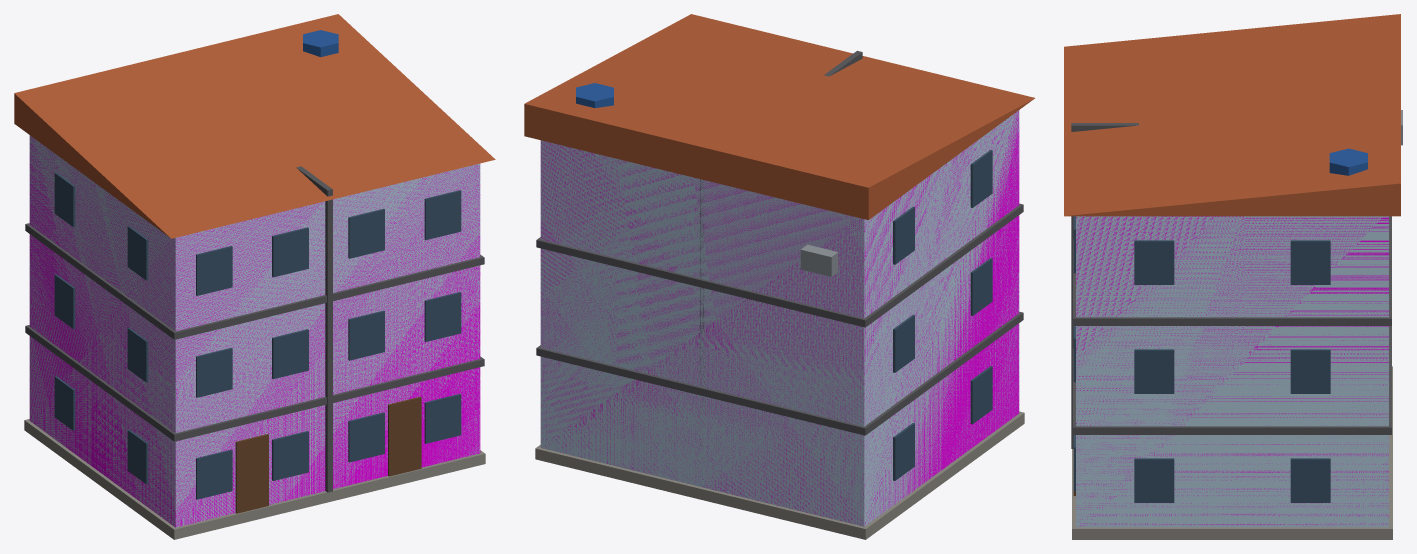
Rendered from Rowhouse_3S_01.glb.
The picture shows the model from 3 angles, left to right: view 1: azimuth 30°, elevation 25°; view 2: azimuth 150°, elevation 25°; view 3: azimuth 270°, elevation 25°; orthographic projection. The views are drawn at different scales.
Parts seen in each view (by area): view 1: Rowhouse_3S_01, Rowhouse_3S_01_COL; view 2: Rowhouse_3S_01, Rowhouse_3S_01_COL; view 3: Rowhouse_3S_01, Rowhouse_3S_01_COL.
Part boxes in pixels (<box>): Rowhouse_3S_01: <box>14,14,495,539</box>; Rowhouse_3S_01_COL: <box>29,136,480,527</box>; Rowhouse_3S_01: <box>524,14,1034,539</box>; Rowhouse_3S_01_COL: <box>540,110,1019,526</box>; Rowhouse_3S_01: <box>1064,14,1402,539</box>; Rowhouse_3S_01_COL: <box>1076,216,1388,526</box>.
Bounding box in the file's own units: 10 × 10 × 8.45.
